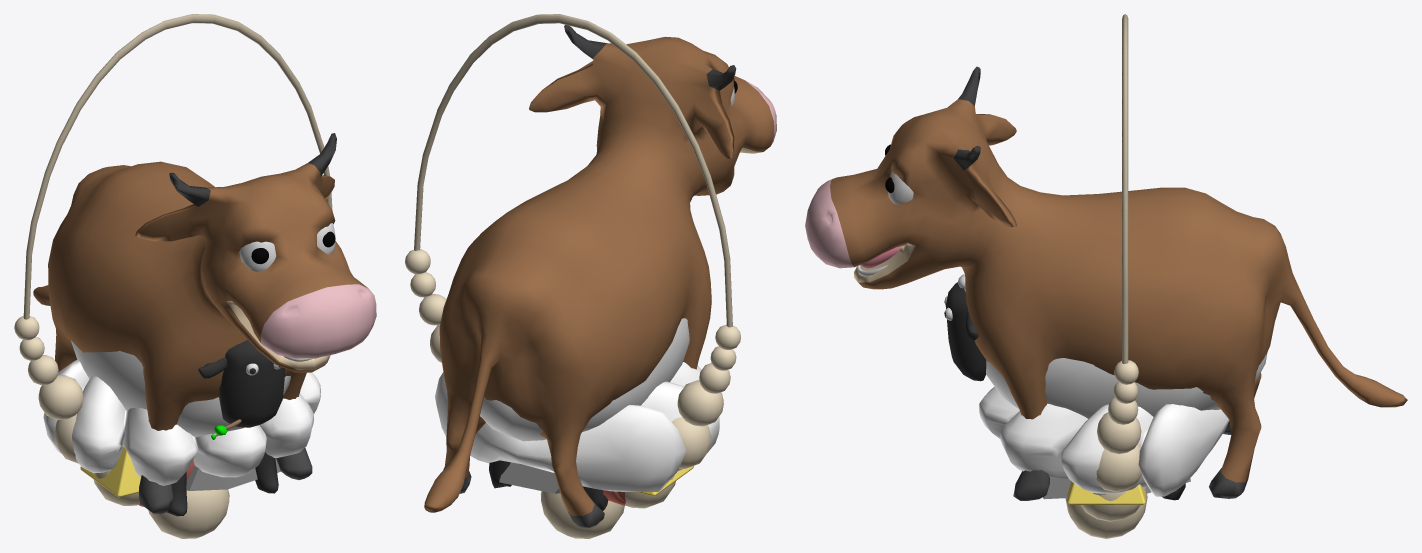
File: TradeCollactableObjects.fbx
The picture shows the model from 3 angles, left to right: view 1: azimuth 30°, elevation 25°; view 2: azimuth 150°, elevation 25°; view 3: azimuth 270°, elevation 25°; orthographic projection. The views are drawn at different scales.
Visible parts, largest first — view 1: Cow1, SeaShell3, Inci, Sheep1, Gold, Rock; view 2: Cow1, Inci, SeaShell3, Sheep1, Rock; view 3: Cow1, SeaShell3, Inci, Sheep1, Gold.
Boxes of the visible parts, bbox=[...] form: Cow1: bbox=[33, 133, 376, 513]; SeaShell3: bbox=[43, 359, 320, 485]; Inci: bbox=[14, 14, 332, 538]; Sheep1: bbox=[71, 340, 290, 516]; Gold: bbox=[80, 445, 140, 497]; Rock: bbox=[186, 458, 280, 490]; Cow1: bbox=[424, 25, 776, 528]; Inci: bbox=[405, 14, 740, 538]; SeaShell3: bbox=[435, 362, 719, 491]; Sheep1: bbox=[480, 318, 689, 510]; Rock: bbox=[499, 462, 559, 493]; Cow1: bbox=[805, 66, 1407, 500]; SeaShell3: bbox=[979, 387, 1229, 496]; Inci: bbox=[1065, 14, 1147, 538]; Sheep1: bbox=[944, 274, 1267, 500]; Gold: bbox=[1067, 481, 1145, 504].
Bounding box in the file's own units: 2.51 × 3.78 × 4.06.
